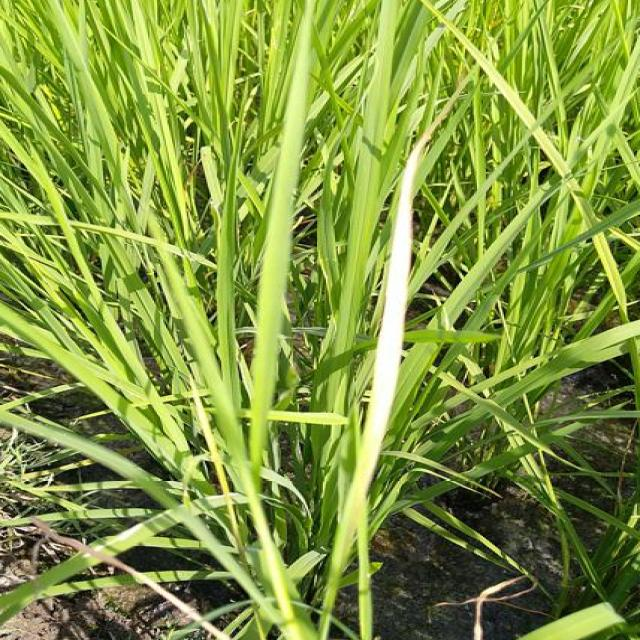Leaf Blight: (347, 135, 428, 518)
